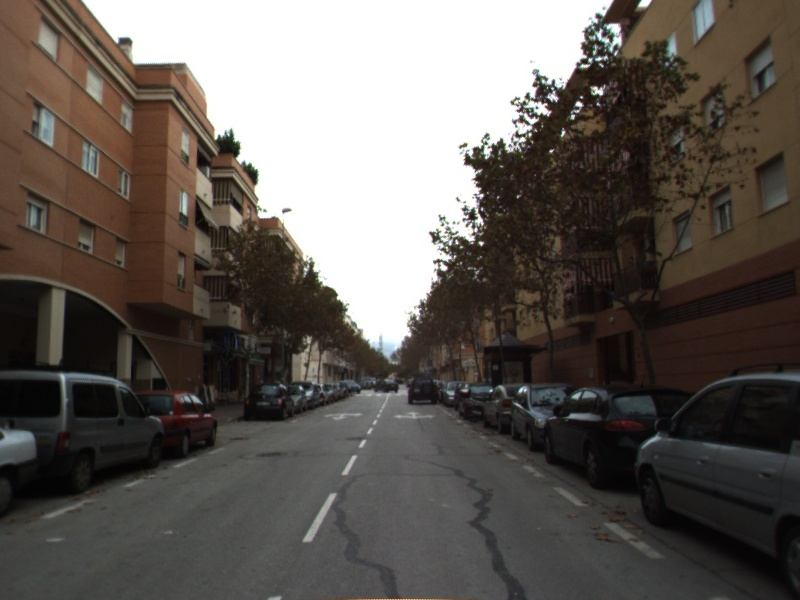STRAIGHT_LEFT_RIGHT: (391, 408, 438, 421)
